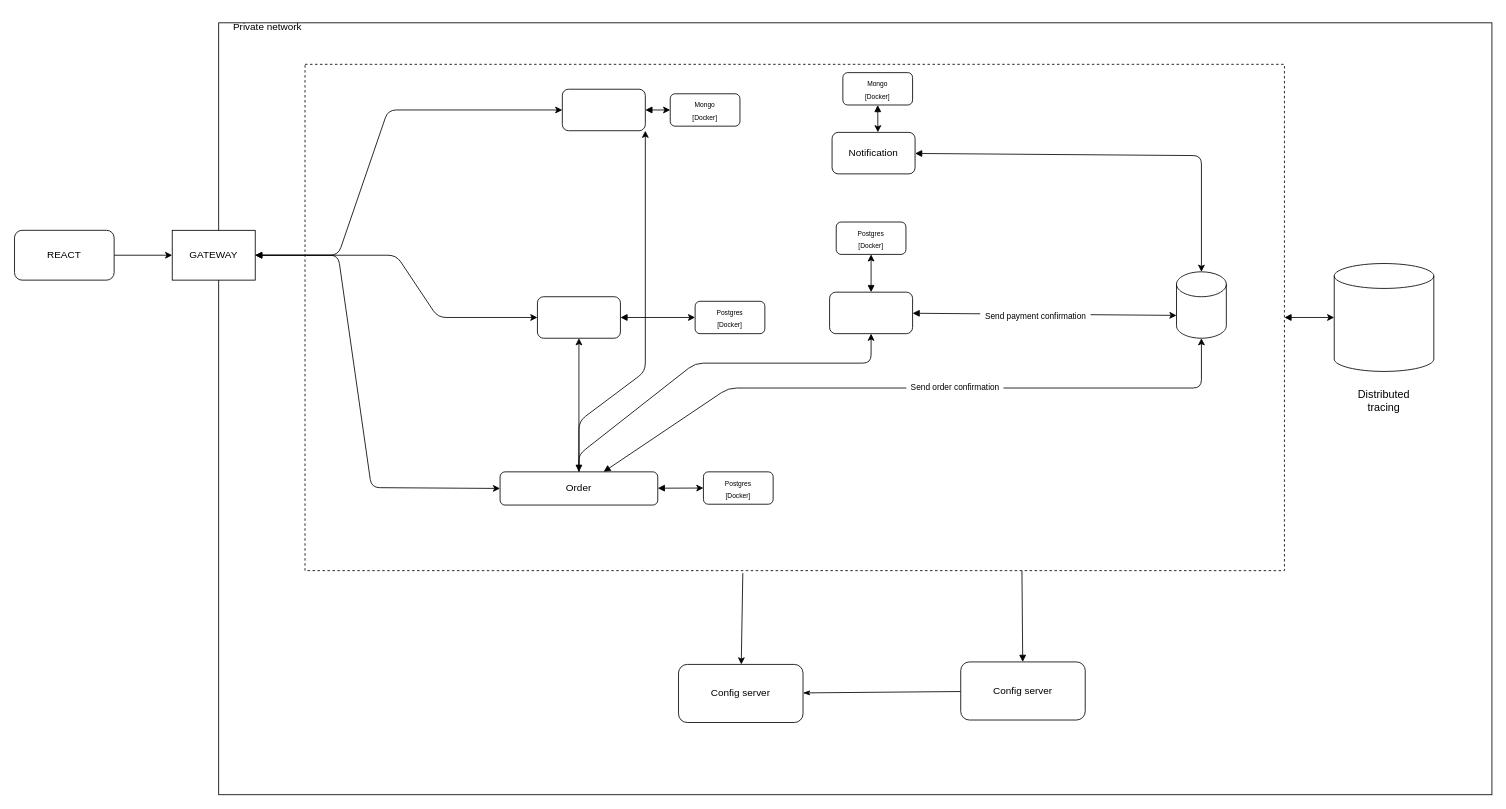
This 1506x809 diagram has some shape labels left out. Each missing label, with the box of its shape:
Customer: (561, 88, 645, 131)
Kafka [Message Broker]: (1176, 271, 1226, 338)
Payment: (829, 291, 913, 334)
Product: (537, 296, 620, 338)
Zipkin: (1333, 263, 1434, 371)
